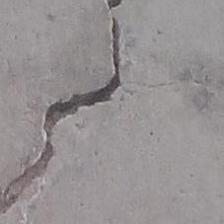Crack: (6, 0, 161, 224)
